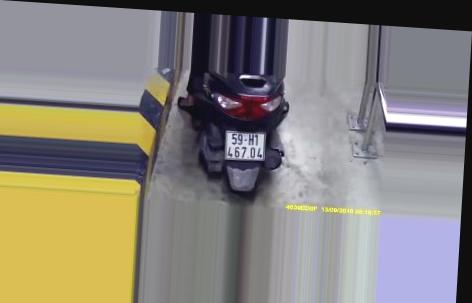License_Plate: (220, 127, 270, 164)
